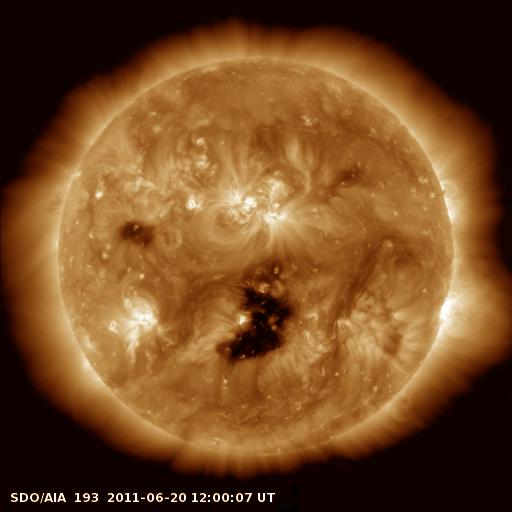coronal_hole: (203, 279, 302, 367), (110, 216, 162, 249)
